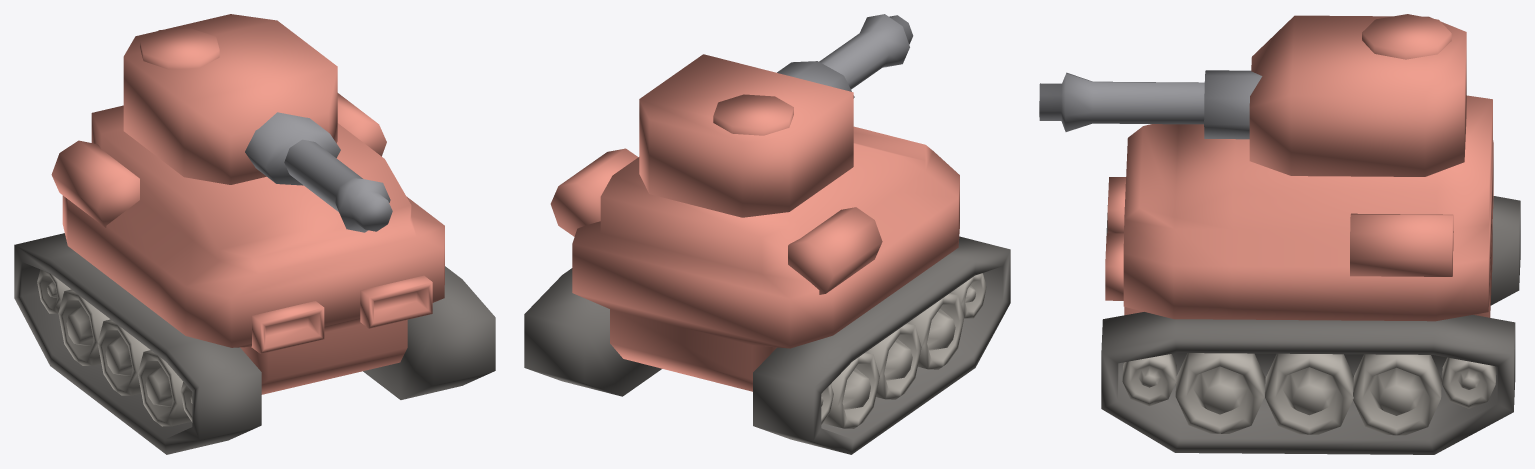
The model's file is rapid_tank.glb.
3 renders of one model, left to right at view 1: azimuth 30°, elevation 25°; view 2: azimuth 150°, elevation 25°; view 3: azimuth 270°, elevation 25°, orthographic. The views are drawn at different scales.
Visible parts, largest first — view 1: Hull, Turret, Track_R, Track_L, Barrel, Wheel_R2, Wheel_R3, Wheel_R4, Wheel_R5; view 2: Hull, Turret, Track_R, Track_L, Barrel, Wheel_R4, Wheel_R2, Wheel_R3, Wheel_R1; view 3: Hull, Turret, Track_L, Barrel, Wheel_L4, Wheel_L2, Wheel_L3, Track_R, Wheel_L1, Wheel_L5.
Boxes of the visible parts, box(x1,y1,x2,y2) form: Hull: box(51, 93, 444, 394); Turret: box(123, 14, 337, 184); Track_R: box(14, 233, 261, 454); Track_L: box(363, 266, 495, 399); Barrel: box(245, 112, 392, 232); Wheel_R2: box(137, 350, 191, 426); Wheel_R3: box(98, 319, 150, 395); Wheel_R4: box(58, 289, 110, 365); Wheel_R5: box(37, 269, 71, 313); Hull: box(550, 126, 959, 391); Turret: box(639, 54, 853, 217); Track_R: box(753, 236, 1010, 454); Track_L: box(524, 268, 661, 396); Barrel: box(777, 14, 913, 98); Wheel_R4: box(823, 352, 879, 428); Wheel_R2: box(907, 293, 964, 369); Wheel_R3: box(865, 323, 921, 399); Wheel_R1: box(950, 273, 986, 318); Hull: box(1105, 95, 1493, 321); Turret: box(1249, 14, 1466, 176); Track_L: box(1101, 312, 1515, 454); Barrel: box(1039, 70, 1262, 139); Wheel_L4: box(1353, 354, 1441, 435); Wheel_L2: box(1175, 353, 1265, 433); Wheel_L3: box(1265, 353, 1353, 434); Track_R: box(1106, 196, 1520, 305); Wheel_L1: box(1122, 354, 1176, 406); Wheel_L5: box(1442, 357, 1496, 408).
Size of the model in its own units: 2.51 by 2.42 by 3.22.
